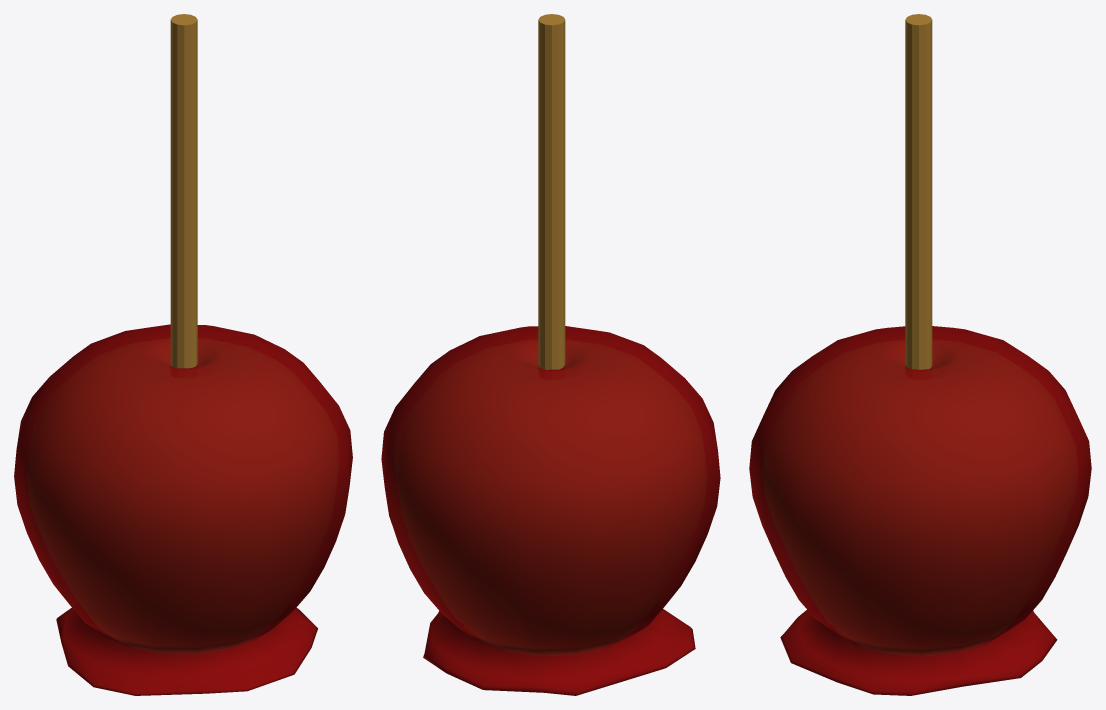
Rendered from CandyApple.fbx.
3 renders of one model, left to right at view 1: azimuth 30°, elevation 25°; view 2: azimuth 150°, elevation 25°; view 3: azimuth 270°, elevation 25°, orthographic.
Visible parts, largest first — view 1: sm_apple_glaze; view 2: sm_apple_glaze; view 3: sm_apple_glaze.
Part boxes in pixels (box(x1,y1,x2,y2)): sm_apple_glaze: box(14, 14, 352, 695); sm_apple_glaze: box(381, 14, 720, 695); sm_apple_glaze: box(749, 14, 1091, 695).
Bounding box in the file's own units: 45.91 × 92.35 × 45.91.
